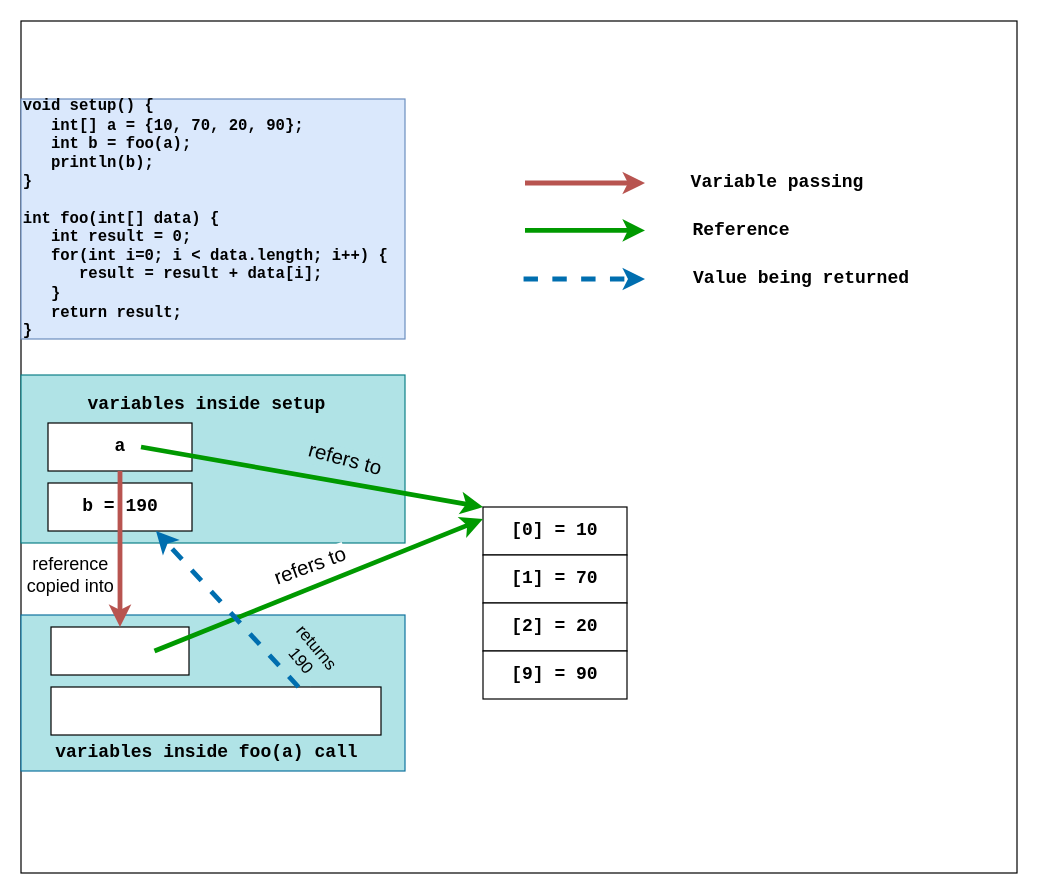
Image size: 1038x894. Some labels were removed from this diagram. Here are the shapes that lost their labels. From the top down, the centre of each, then its label:
At point (119, 650): "data".
At point (215, 710): "result = 0 10 80 100 190".
